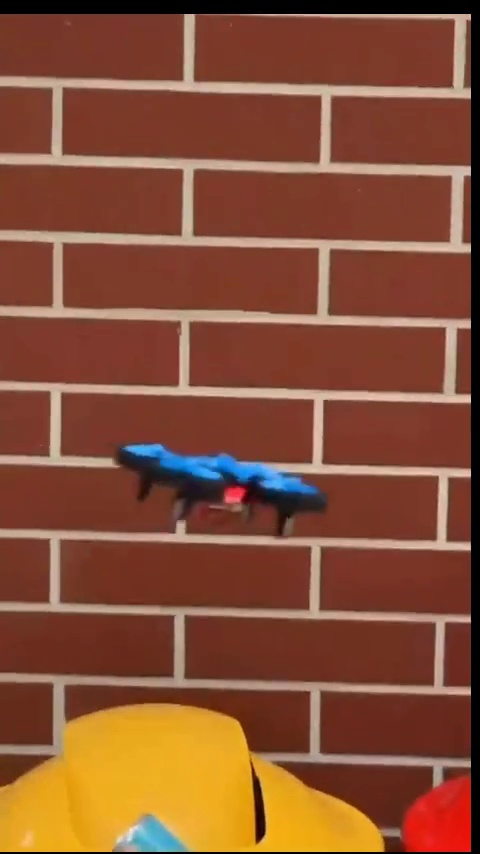drone: (115, 440, 329, 544)
